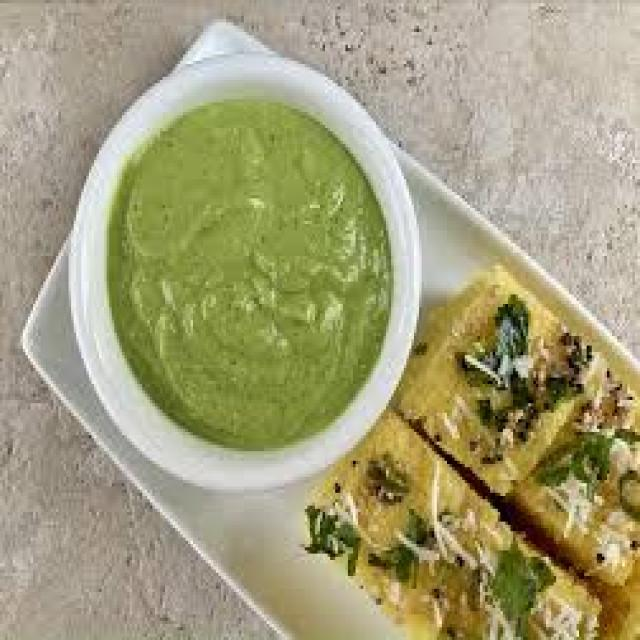DHOKLA: (297, 271, 637, 637)
